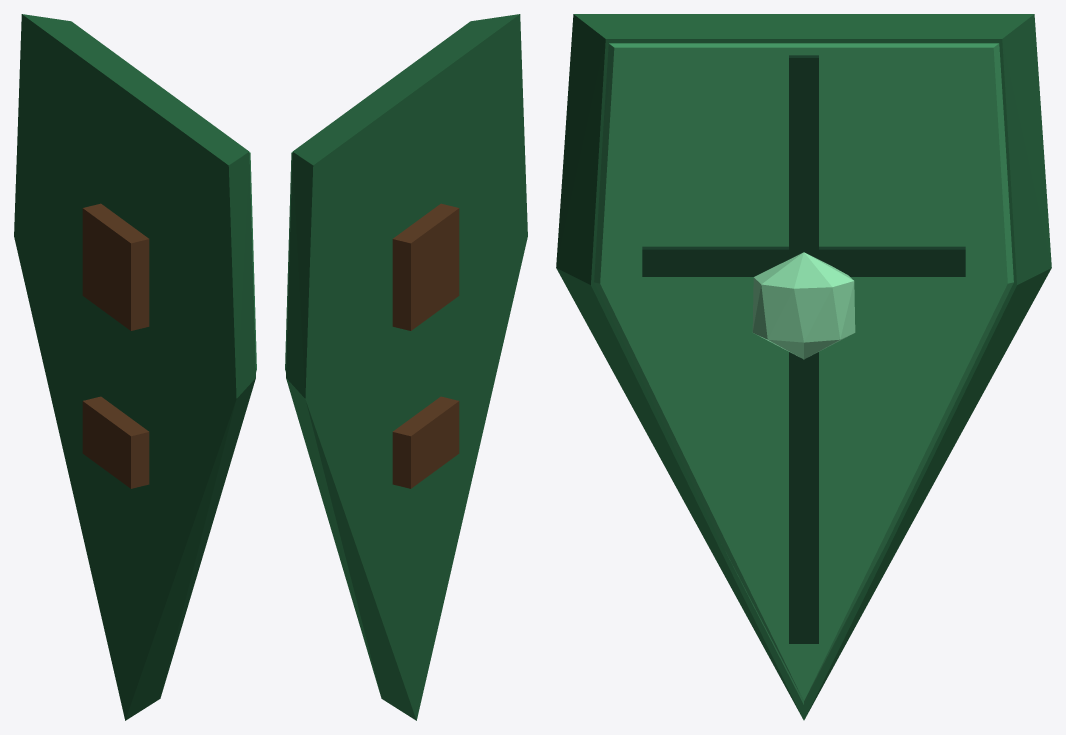
The model's file is held_adamant_shield.glb.
The picture shows the model from 3 angles, left to right: view 1: azimuth 30°, elevation 25°; view 2: azimuth 150°, elevation 25°; view 3: azimuth 270°, elevation 25°; orthographic projection. The views are drawn at different scales.
Visible parts, largest first — view 1: held_adamant_shield; view 2: held_adamant_shield; view 3: held_adamant_shield.
Boxes of the visible parts, box(x1,y1,x2,y2) form: held_adamant_shield: box(14, 14, 256, 720); held_adamant_shield: box(285, 14, 527, 720); held_adamant_shield: box(556, 14, 1051, 720).
Bounding box in the file's own units: 0.1057 × 0.72 × 0.4601.
